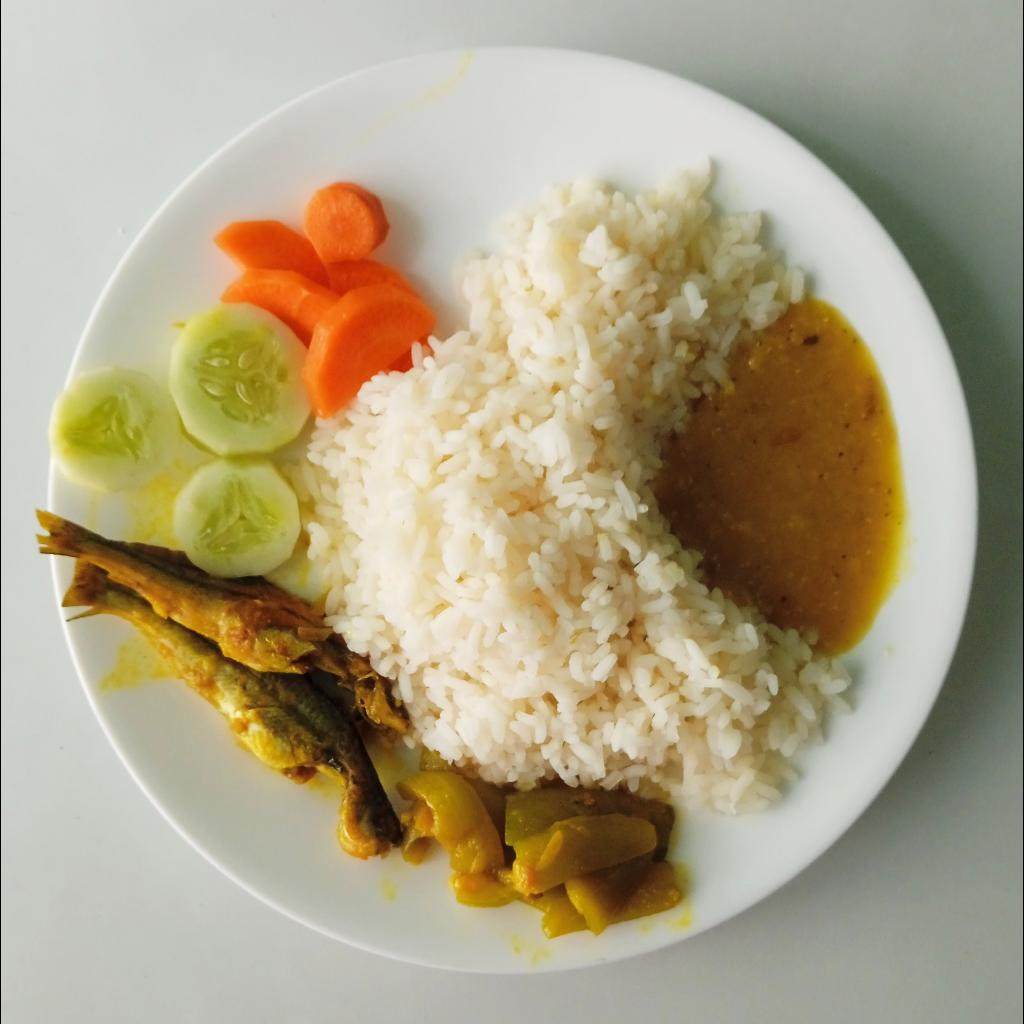carrot: (214, 183, 443, 420)
cucumber: (45, 305, 314, 489), (170, 464, 298, 576)
daal: (663, 306, 901, 652)
fish: (35, 509, 408, 859)
potol: (392, 768, 686, 941)
rice: (288, 154, 860, 823)
